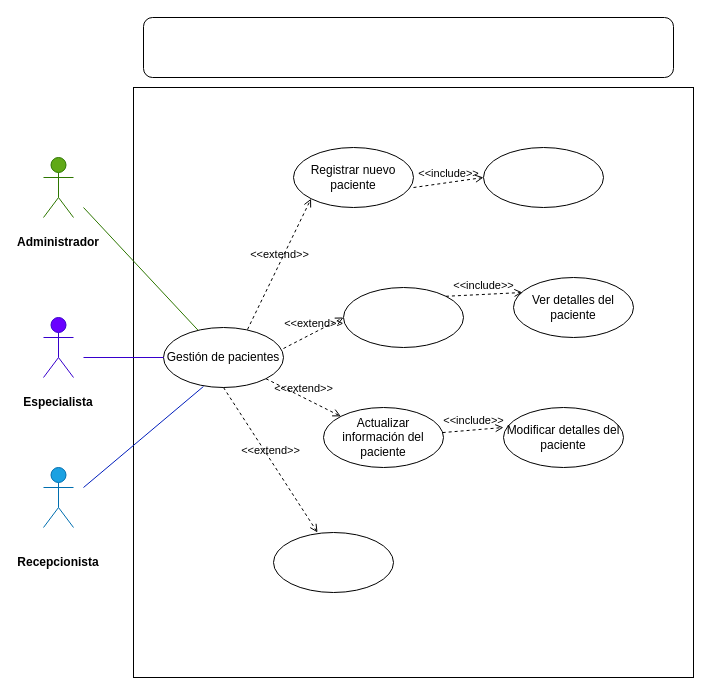
Image size: 711x695. Some labels were removed from this diagram. Here are the shapes that lost their labels. From the top down, the box of each, then its label:
(142, 16, 674, 78): Modulo de Gestión de pacientes
(482, 146, 604, 208): Ingresar datos personales, Deudor, etc
(342, 286, 464, 348): Consultar lista de pacientes
(272, 532, 394, 592): Activar/Desactivar perfil del paciente
